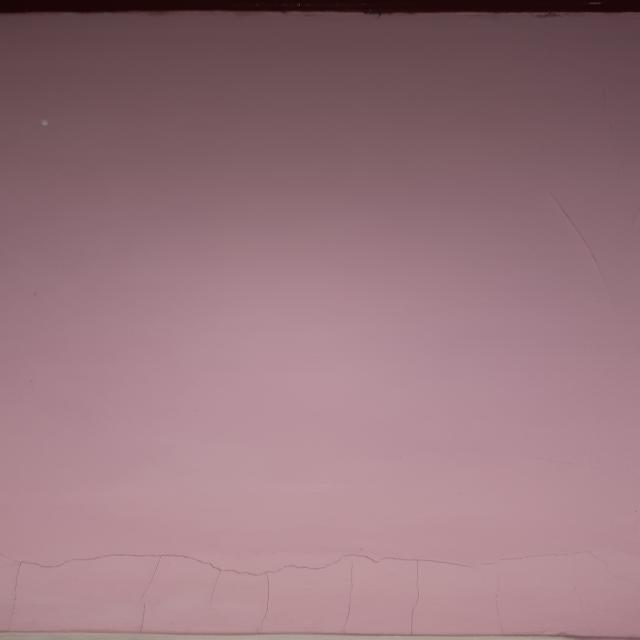Crack: (11, 546, 636, 581)
